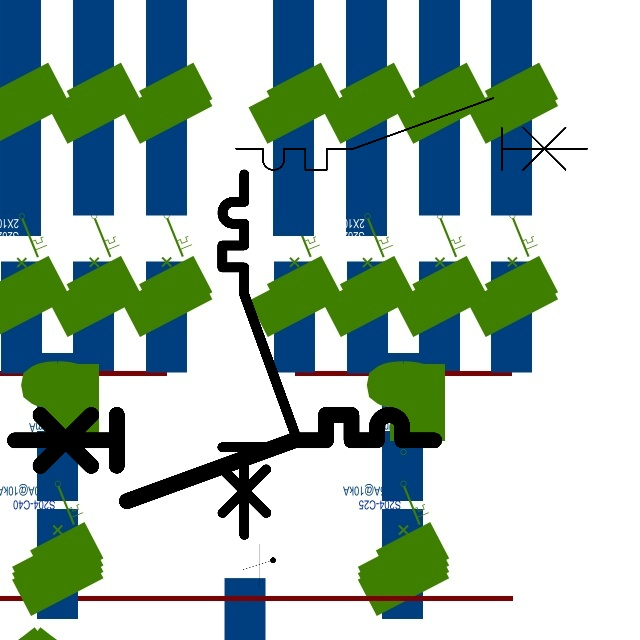interruptor_termomagnetico: (4, 404, 445, 512), (213, 165, 305, 544), (227, 89, 596, 179)
